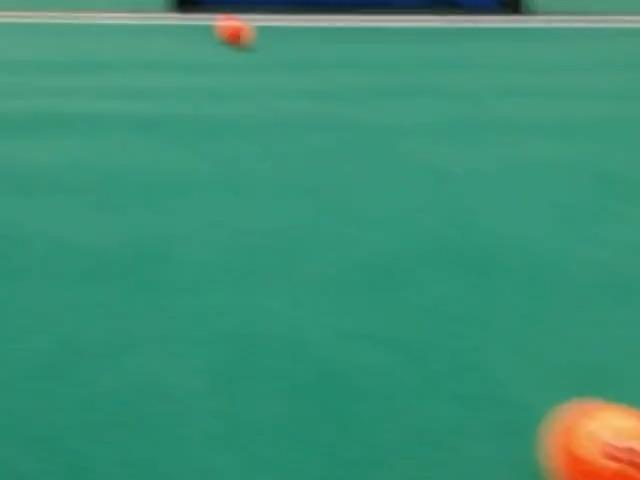Ball: (535, 399, 639, 479), (214, 15, 255, 48)
